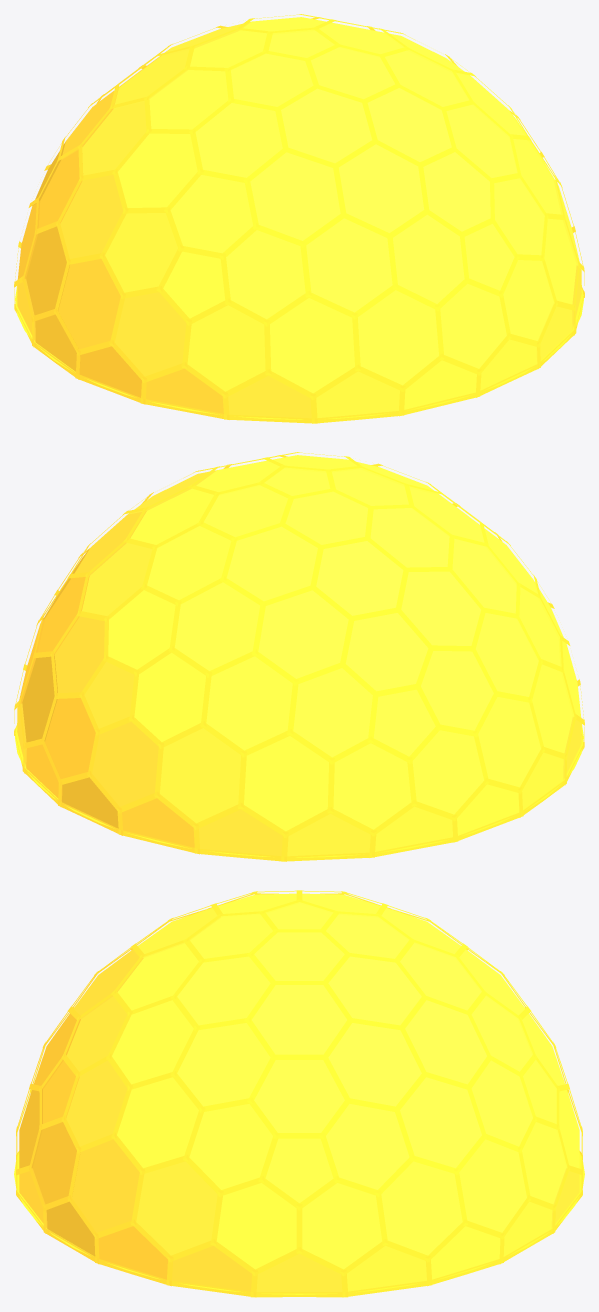
The model's file is escudo_amigo.glb.
3 views of the same model, one above another, from view 1: azimuth 30°, elevation 25°; view 2: azimuth 150°, elevation 25°; view 3: azimuth 270°, elevation 25° (orthographic).
Parts seen in each view (by area): view 1: escudo_amigo; view 2: escudo_amigo; view 3: escudo_amigo.
Boxes of the visible parts, x1,y1,x2,y2 form: escudo_amigo: (14, 14, 584, 423); escudo_amigo: (14, 452, 584, 861); escudo_amigo: (14, 890, 584, 1297).
Size of the model in its own units: 2 by 1.01 by 2.
